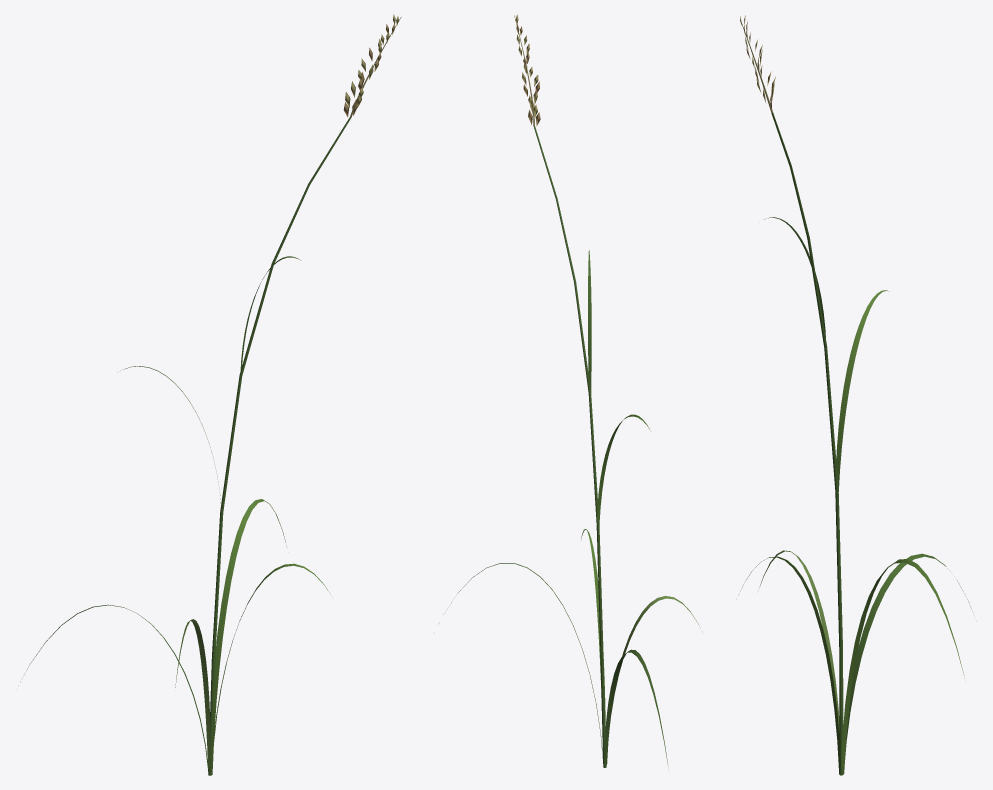
The picture shows the model from 3 angles, left to right: view 1: azimuth 30°, elevation 25°; view 2: azimuth 150°, elevation 25°; view 3: azimuth 270°, elevation 25°; orthographic projection. The views are drawn at different scales.
Visible parts, largest first — view 1: Specimen A; view 2: Specimen A; view 3: Specimen A.
Boxes of the visible parts, box(x1,y1,x2,y2) form: Specimen A: box(20, 14, 401, 775); Specimen A: box(443, 14, 700, 767); Specimen A: box(738, 15, 972, 775).
Size of the model in its own units: 0.1228 by 0.3191 by 0.0844.
